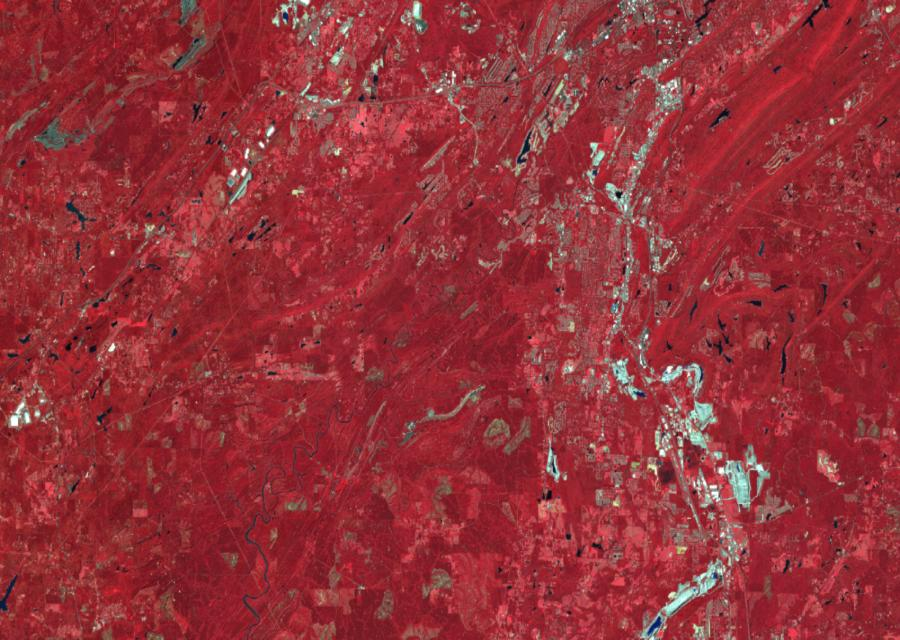Potential Lime Manufacturing Facility: (688, 400, 767, 510), (640, 562, 728, 640)
